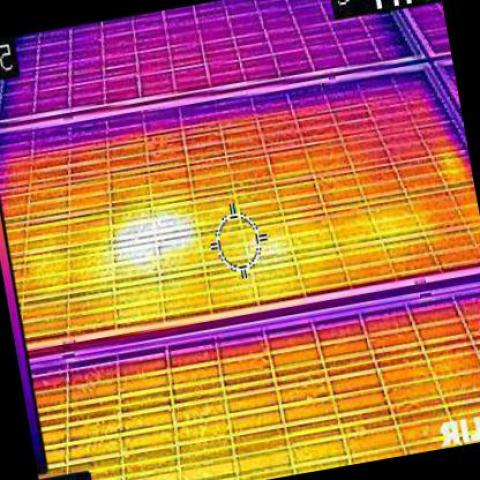fault: (111, 217, 192, 260)
